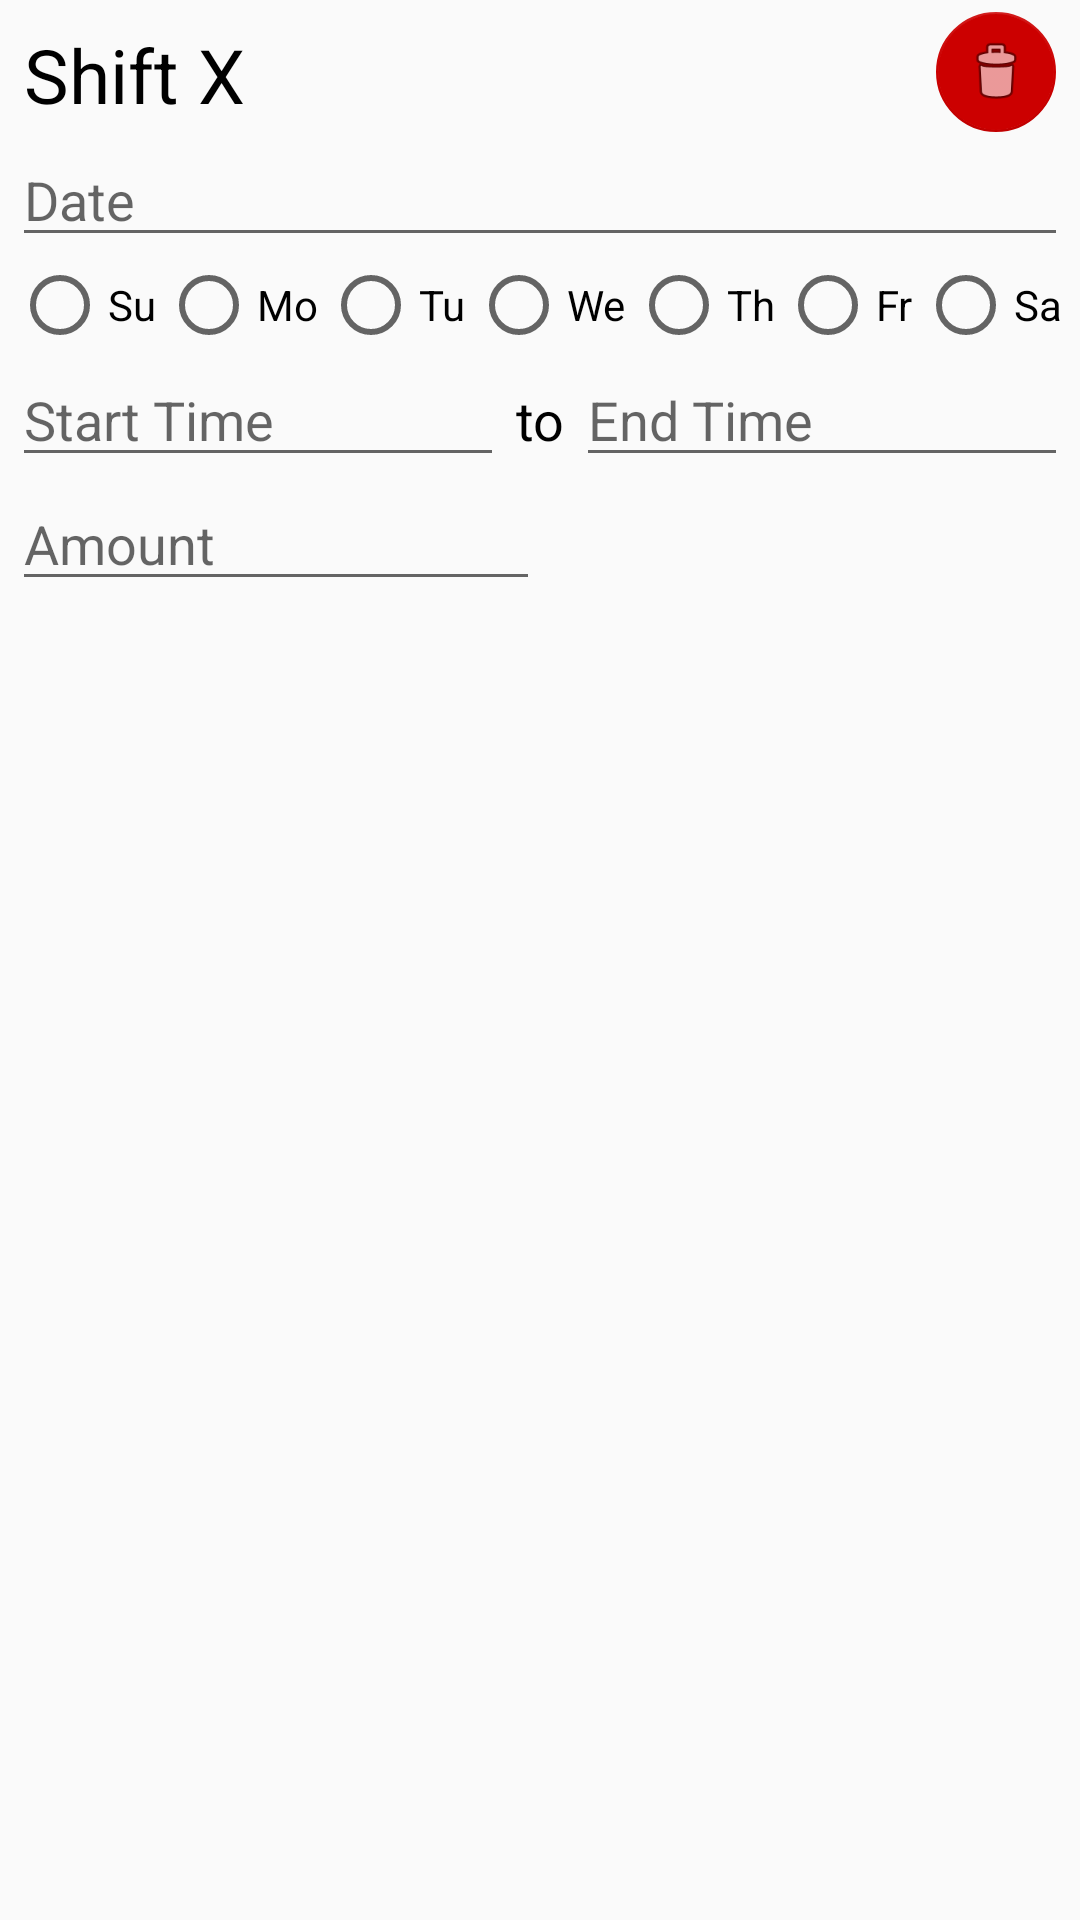

Locate icon controls on the screen. Image size 1080×1920, boxes as (x1, y1, x2, y2).
delete: (936, 12, 1056, 132)
